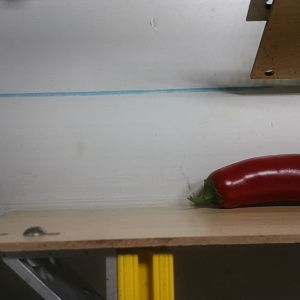Cut Point: (200, 169, 235, 208)
